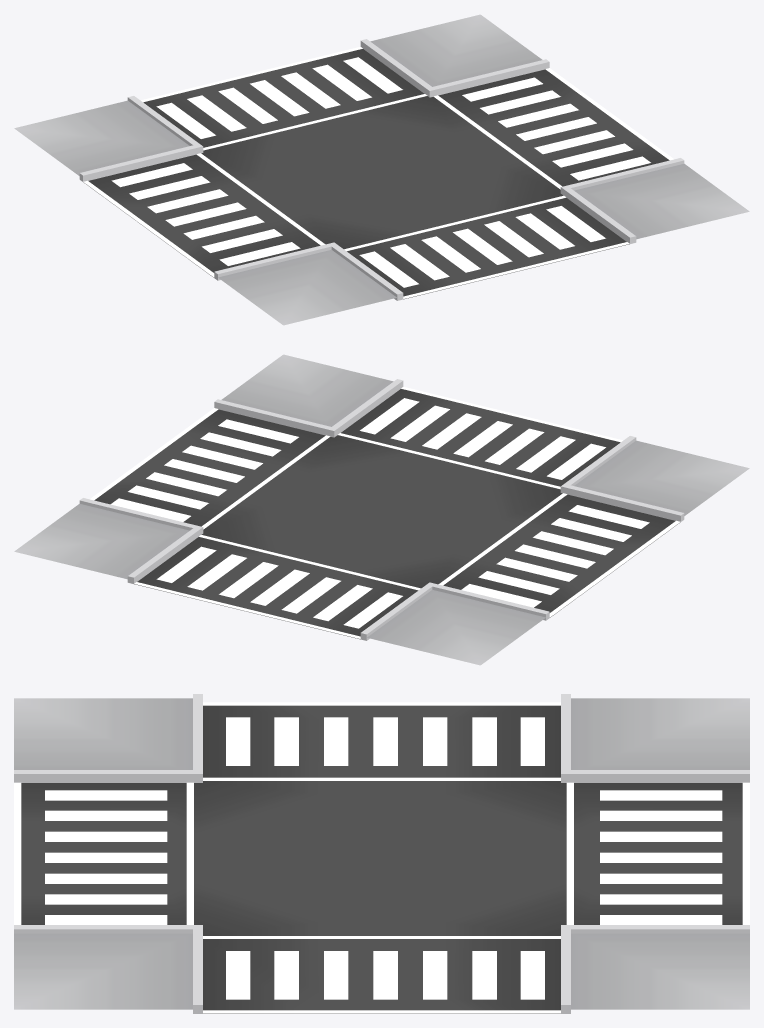
The model's file is city2-road-029.glb.
3 views of the same model, one above another, from view 1: azimuth 30°, elevation 25°; view 2: azimuth 150°, elevation 25°; view 3: azimuth 270°, elevation 25° (orthographic). The views are drawn at different scales.
Parts seen in each view (by area): view 1: road_029; view 2: road_029; view 3: road_029.
Boxes of the visible parts, x1=… form: road_029: x1=14, y1=14, x2=749, y2=325; road_029: x1=14, y1=354, x2=749, y2=665; road_029: x1=14, y1=694, x2=749, y2=1013.
Size of the model in its own units: 15 by 0.2 by 15.
1 material, 1 textured.
